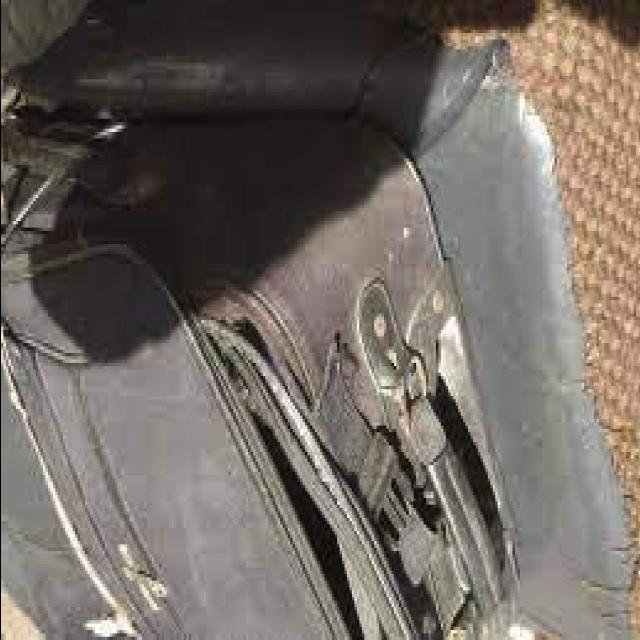Damage-bag: (176, 280, 416, 637)
